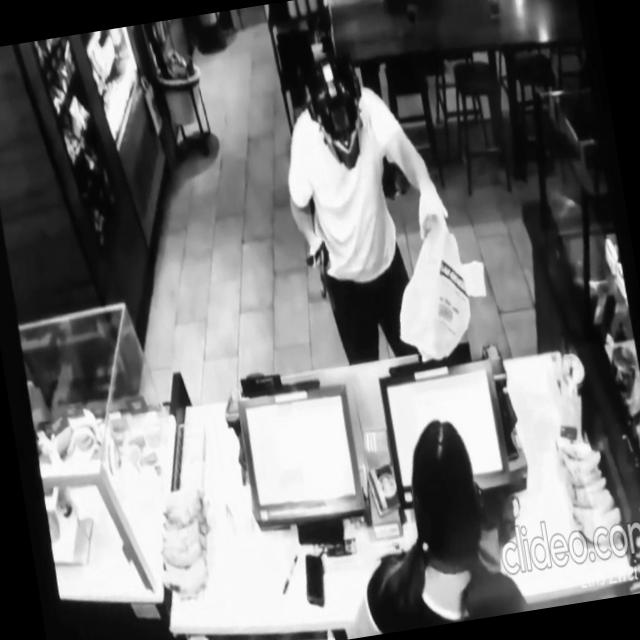gun: (311, 237, 338, 300)
person: (314, 407, 530, 640)
person with a gun: (268, 37, 470, 370)
